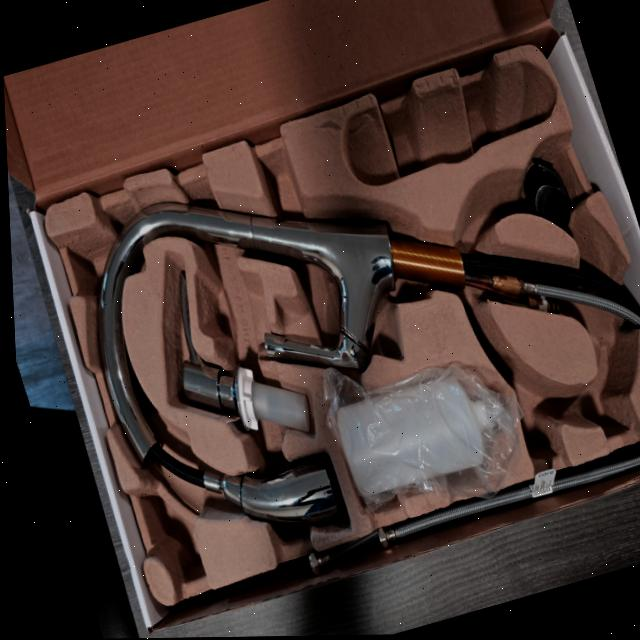1: (98, 200, 640, 523)
2: (178, 268, 311, 435)
3: (339, 374, 507, 497)
4m: (341, 59, 556, 185)
5: (522, 157, 569, 226)
6m: (580, 344, 638, 437)
7m: (487, 344, 579, 452)
